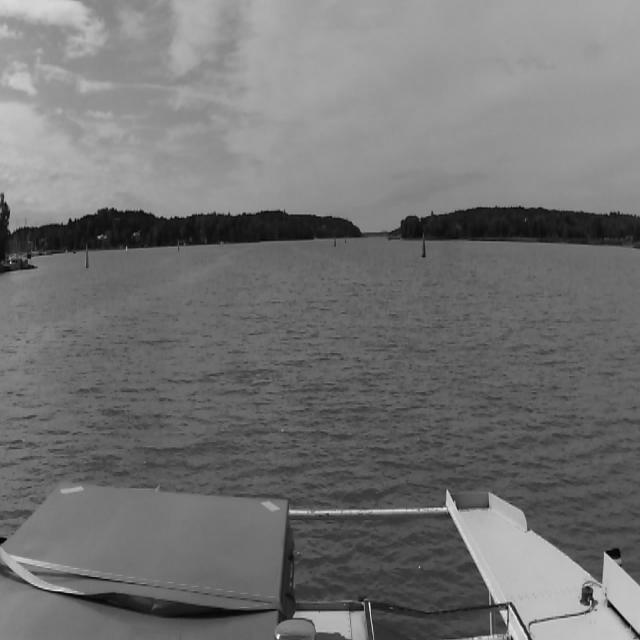buoy: (85, 245, 89, 268), (422, 234, 425, 256), (343, 233, 347, 245), (334, 235, 336, 246), (178, 242, 179, 252)
